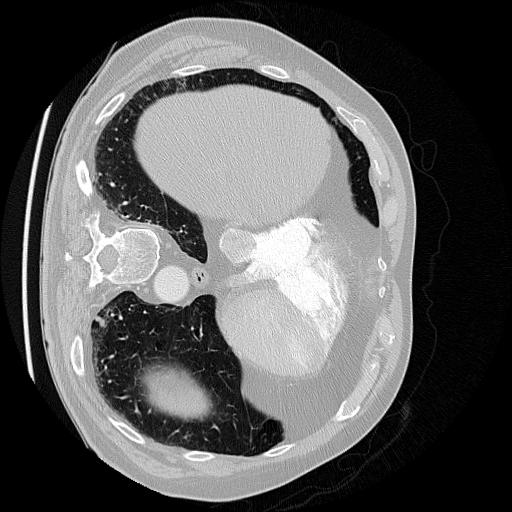nodule: (95, 315, 109, 329)
